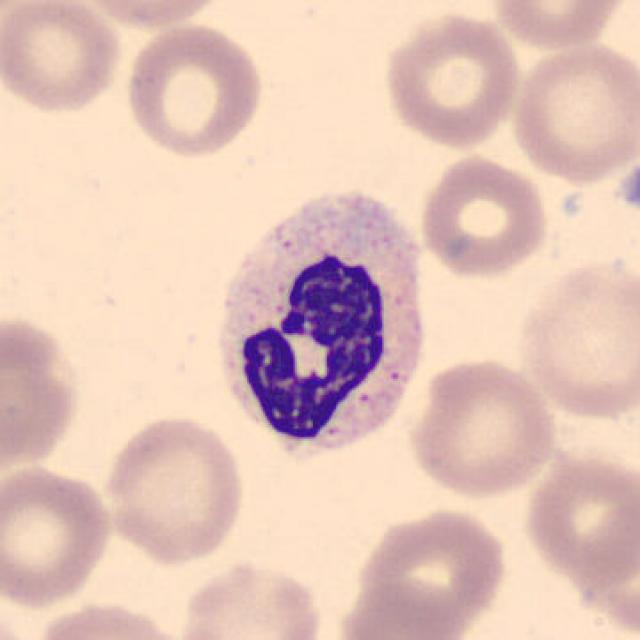Monocyte: (207, 176, 438, 478)
Neutrophil: (206, 176, 436, 478)
Platelets: (613, 159, 640, 220)
RBC: (98, 411, 249, 568), (404, 354, 562, 501), (348, 502, 512, 636), (512, 252, 638, 423), (378, 7, 524, 152), (121, 18, 267, 160), (507, 39, 638, 185), (416, 152, 553, 282), (0, 462, 116, 612), (519, 448, 638, 590), (0, 0, 124, 116), (0, 310, 85, 475), (174, 555, 329, 640), (334, 576, 467, 640), (489, 0, 631, 51), (30, 597, 188, 640), (76, 0, 230, 32), (0, 599, 46, 640)
